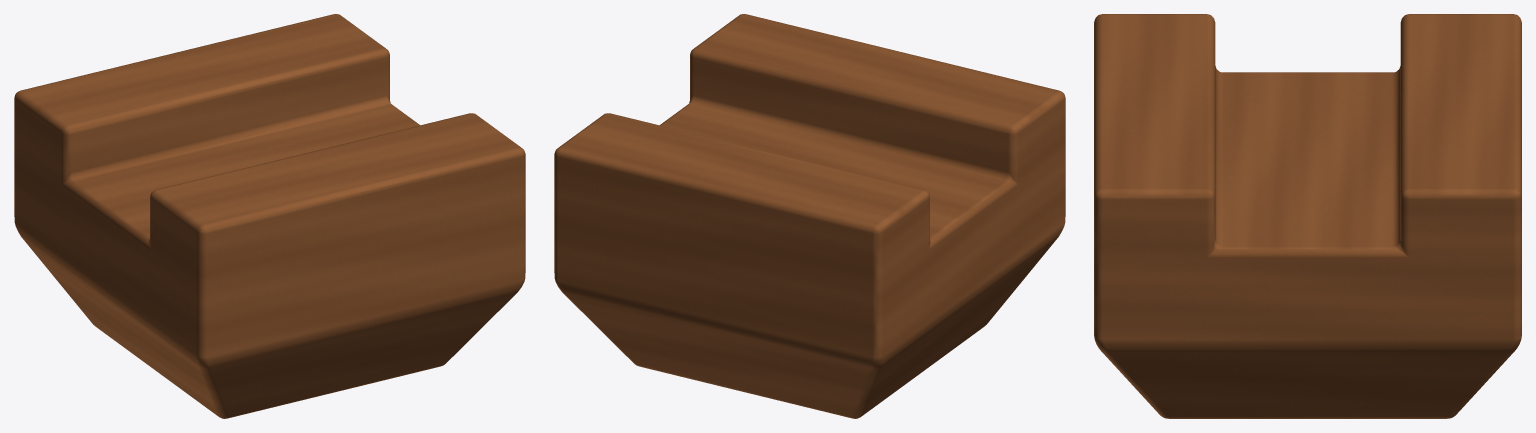
3 views of the same model, side by side, from view 1: azimuth 30°, elevation 25°; view 2: azimuth 150°, elevation 25°; view 3: azimuth 270°, elevation 25° (orthographic). The views are drawn at different scales.
Visible parts, largest first — view 1: k3_dou_01; view 2: k3_dou_01; view 3: k3_dou_01.
Boxes of the visible parts, x1,y1,x2,y2 form: k3_dou_01: [14, 14, 525, 418]; k3_dou_01: [554, 14, 1065, 418]; k3_dou_01: [1094, 14, 1521, 418].
Size of the model in its own units: 3.15 by 2.1 by 3.15.
Materials: 1 (1 with a texture image).
